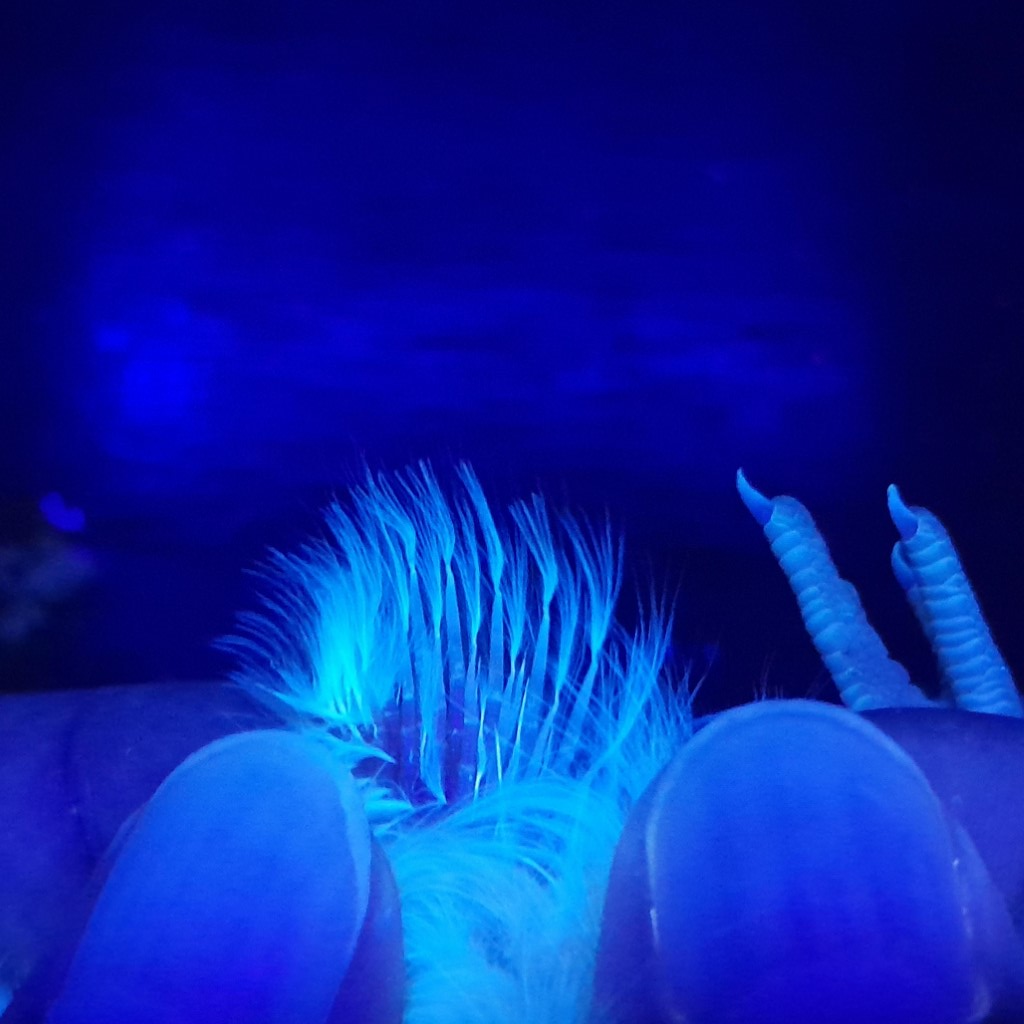female: (349, 538, 644, 837)
